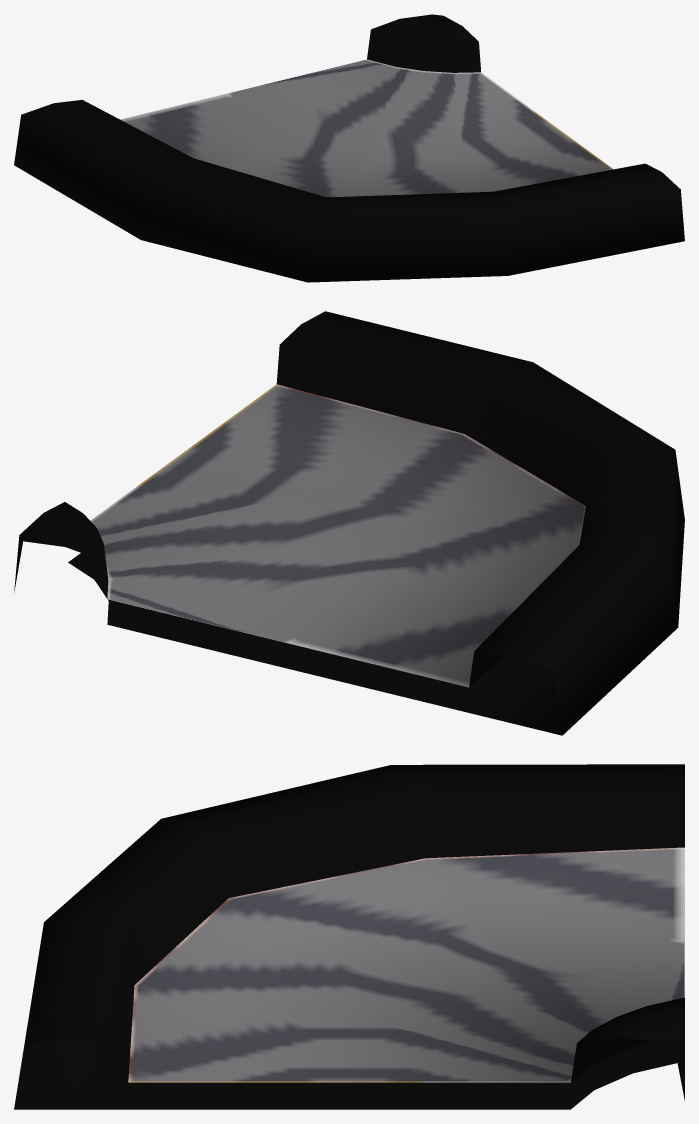
File: ConveyorBelt_turn.obj
3 views of the same model, one above another, from view 1: azimuth 30°, elevation 25°; view 2: azimuth 150°, elevation 25°; view 3: azimuth 270°, elevation 25° (orthographic). The views are drawn at different scales.
Visible parts, largest first — view 1: conveyor_turn_Cube.002; view 2: conveyor_turn_Cube.002; view 3: conveyor_turn_Cube.002.
Boxes of the visible parts, x1,y1,x2,y2 form: conveyor_turn_Cube.002: [14, 14, 684, 282]; conveyor_turn_Cube.002: [14, 311, 684, 735]; conveyor_turn_Cube.002: [14, 764, 684, 1109].
Bounding box in the file's own units: 2.07 × 0.2881 × 2.07.
